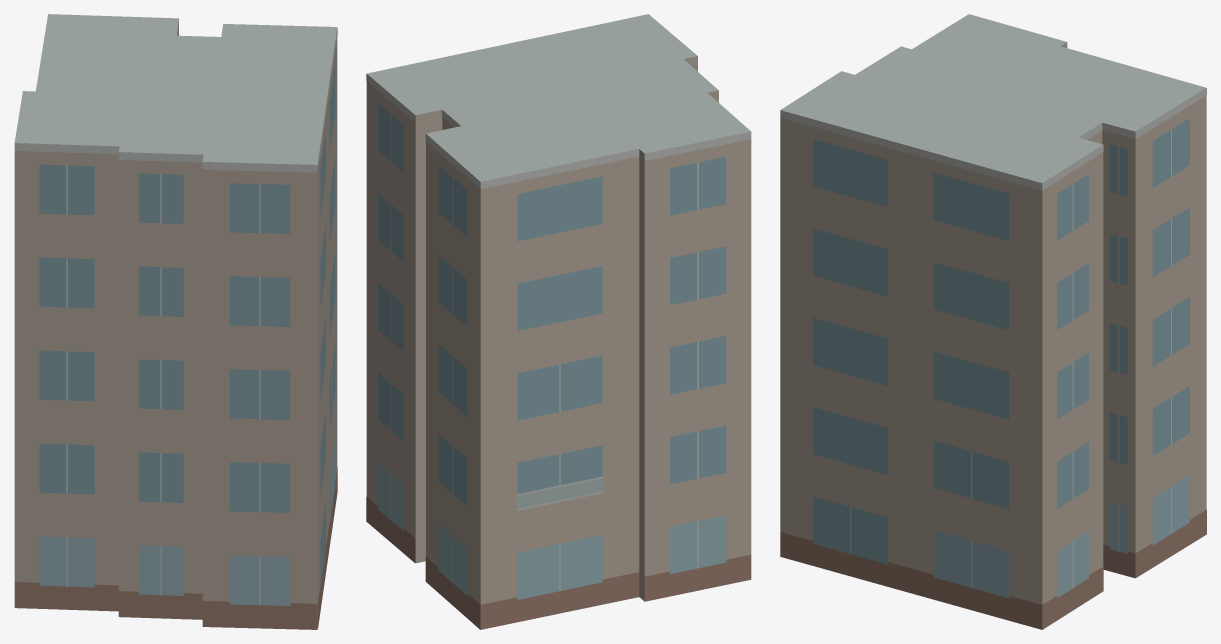
The model's file is survey-upis-32992817.glb.
The picture shows the model from 3 angles, left to right: view 1: azimuth 30°, elevation 25°; view 2: azimuth 150°, elevation 25°; view 3: azimuth 270°, elevation 25°; orthographic projection. The views are drawn at different scales.
Parts seen in each view (by area): view 1: survey-upis-32992817.tmp; view 2: survey-upis-32992817.tmp; view 3: survey-upis-32992817.tmp.
Part boxes in pixels (left/top/right/bottom): survey-upis-32992817.tmp: left=14, top=14, right=337, bottom=629; survey-upis-32992817.tmp: left=366, top=14, right=751, bottom=629; survey-upis-32992817.tmp: left=780, top=14, right=1206, bottom=629.
Bounding box in the file's own units: 11.79 × 14.5 × 12.56.
